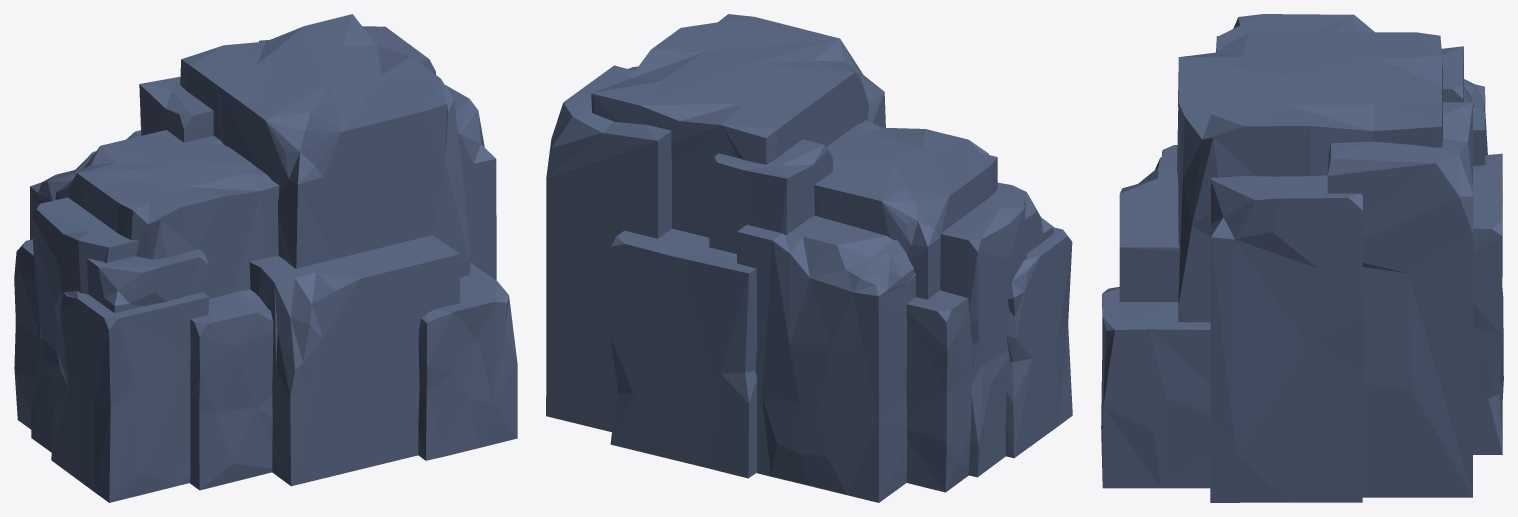
File: BigRock02.fbx
The picture shows the model from 3 angles, left to right: view 1: azimuth 30°, elevation 25°; view 2: azimuth 150°, elevation 25°; view 3: azimuth 270°, elevation 25°; orthographic projection. The views are drawn at different scales.
Visible parts, largest first — view 1: BigRock_02; view 2: BigRock_02; view 3: BigRock_02.
Boxes of the visible parts, x1,y1,x2,y2 form: BigRock_02: (14,14,517,502); BigRock_02: (546,14,1072,502); BigRock_02: (1101,14,1503,502).
Size of the model in its own units: 692 by 520 by 533.
